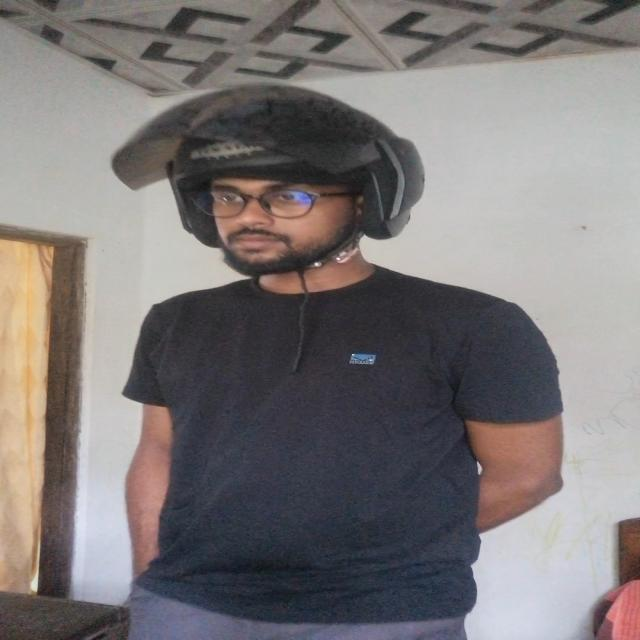Helmet_Wearer: (116, 78, 438, 304)
Person: (113, 94, 585, 640)
